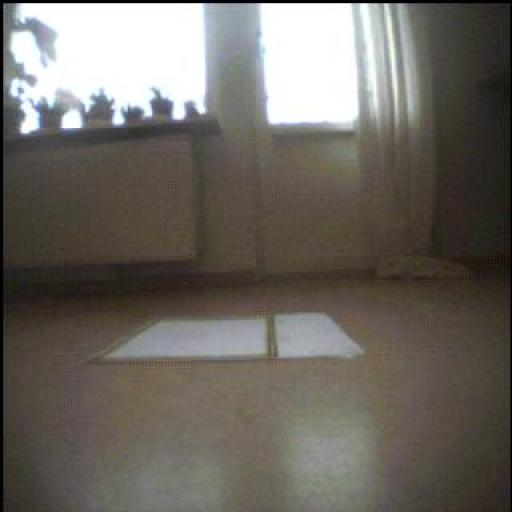Pad: (88, 311, 360, 364)
